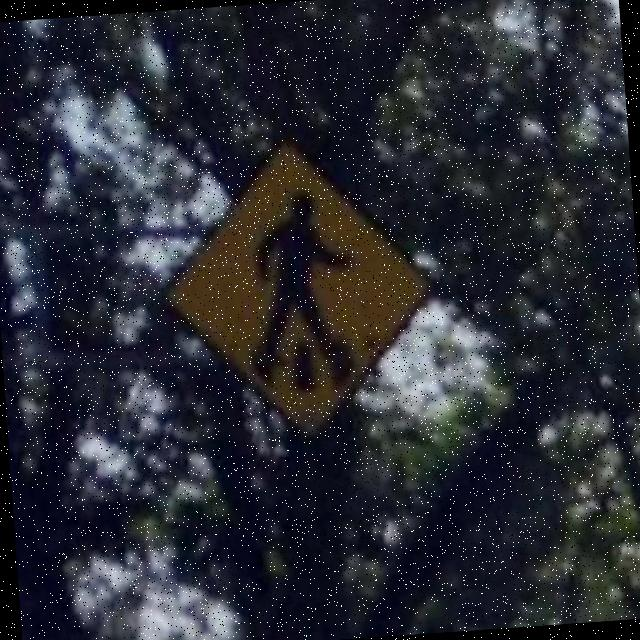Przejscie dla pieszych: (161, 145, 436, 441)
